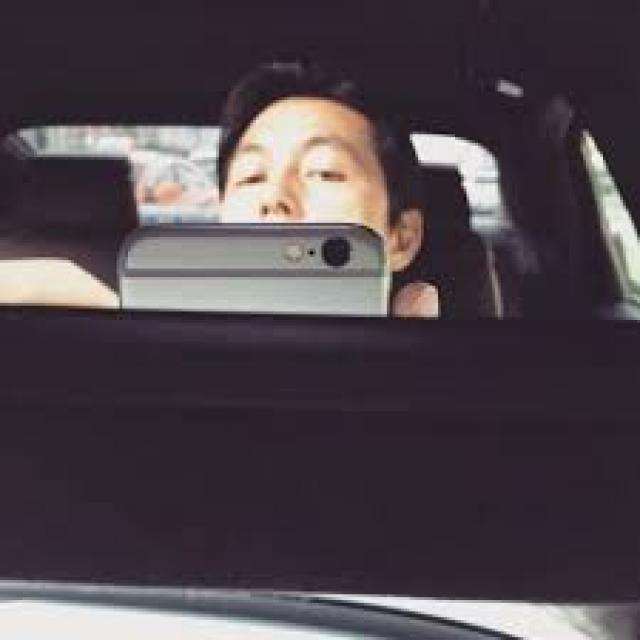Phone: (115, 222, 389, 316)
